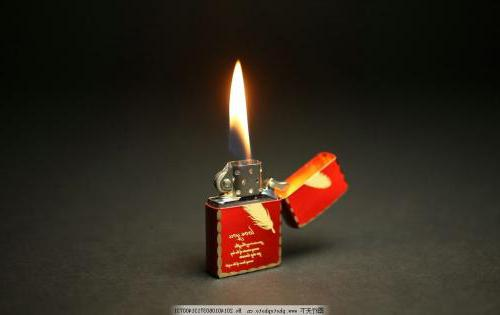fire: (224, 48, 264, 182)
